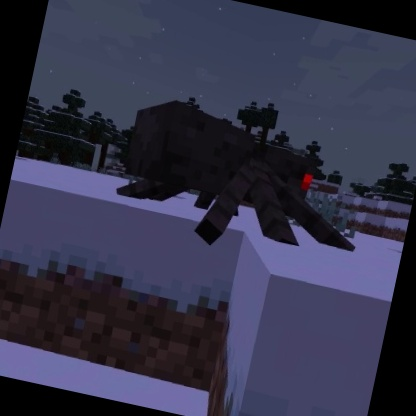spider: (104, 89, 380, 280)
